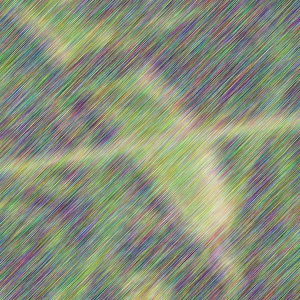Leaf_Blast: (153, 141, 233, 248)
